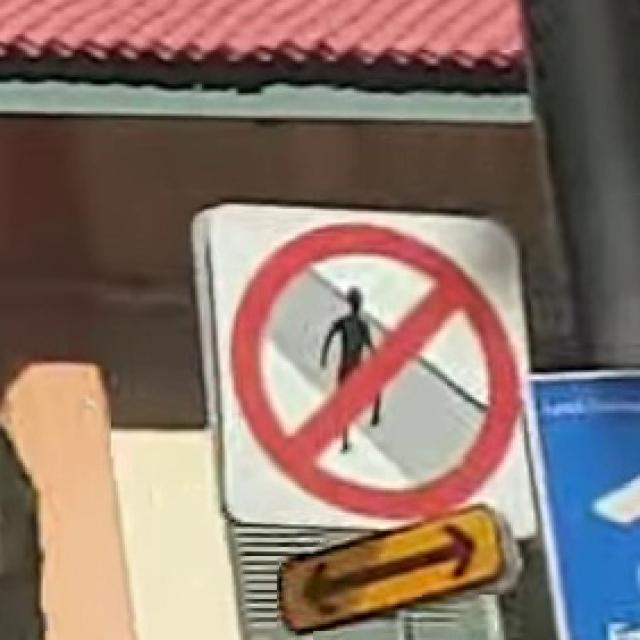nojaywalking_sign: (188, 193, 540, 540)
